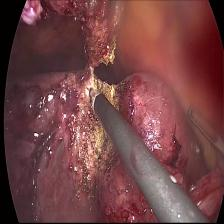Grasper: (184, 93, 223, 164)
Hook: (80, 78, 106, 121)
